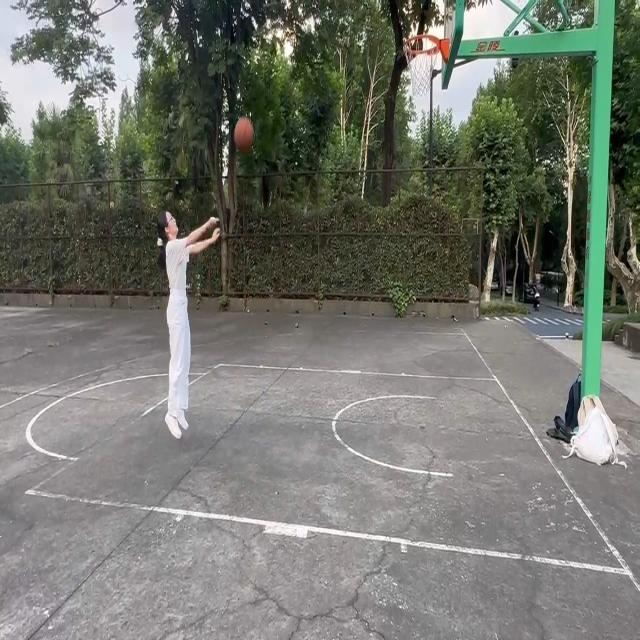basketball: (402, 31, 442, 96)
rim: (234, 118, 254, 151)
